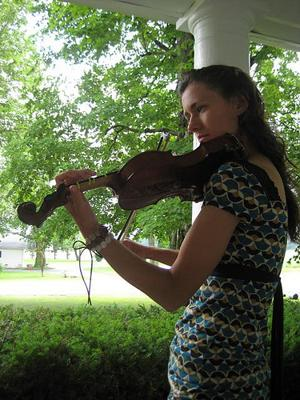person: (56, 66, 291, 400)
